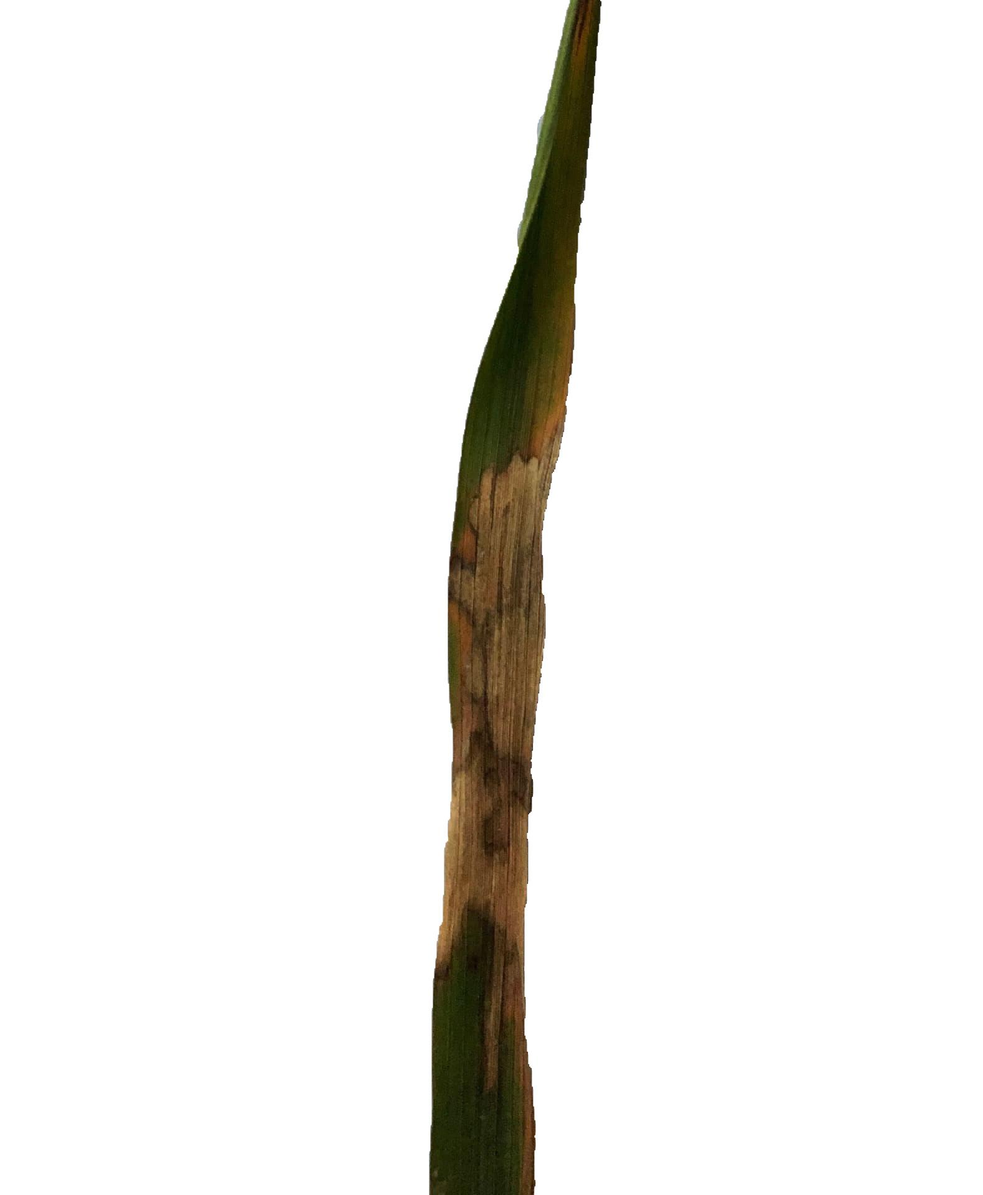Blight: (454, 467, 526, 968)
